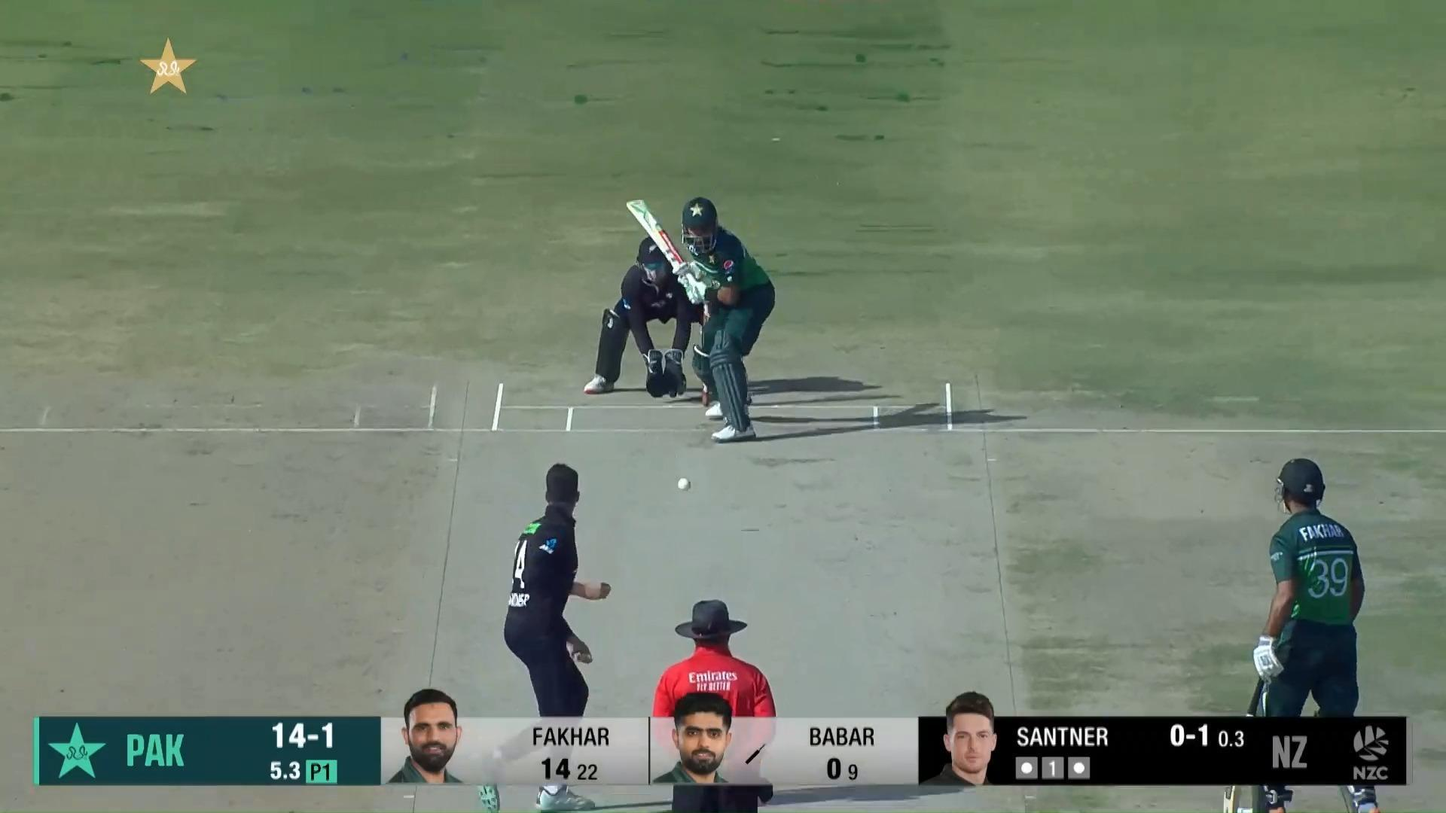BM 1: (625, 197, 775, 443)
BO: (501, 461, 613, 813)
